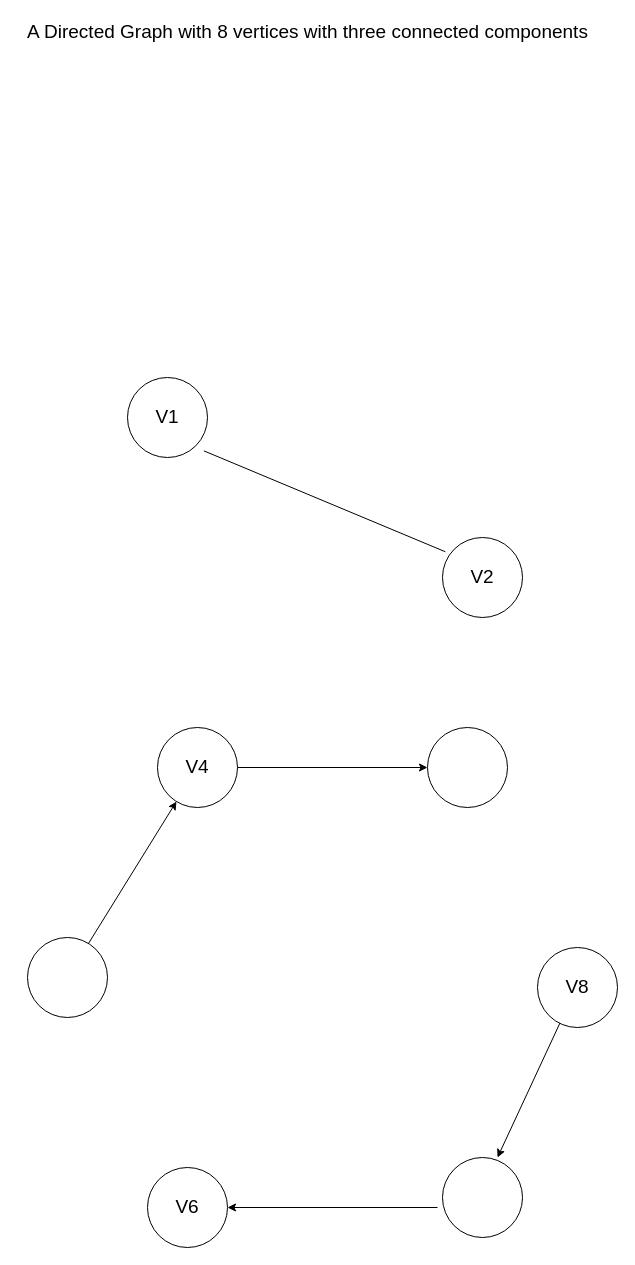
The diagram is 635 pixels wide and 1265 high, and some of its shapes have lost their labels. The shapes that lost their labels are listed below. From the top down, each one's centre as x and y in pixels, then its label:
point 467,767: V5
point 67,977: V3
point 482,1197: V7
